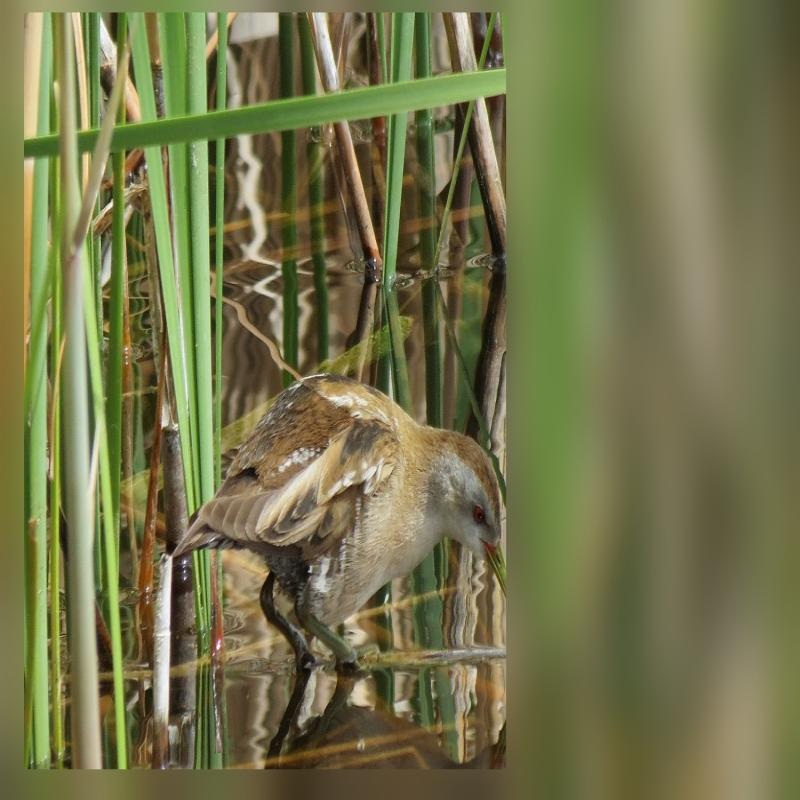little crake: (160, 345, 506, 685)
